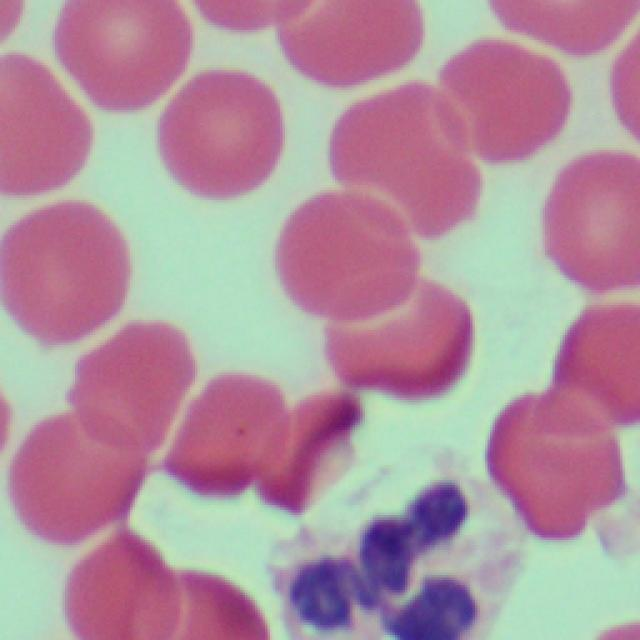RBC: (324, 74, 476, 240), (491, 378, 624, 539), (324, 268, 473, 408), (166, 358, 293, 519), (4, 393, 134, 548), (0, 195, 119, 362), (270, 190, 416, 323), (68, 317, 190, 472), (432, 31, 568, 170), (150, 64, 283, 206), (52, 2, 192, 122), (532, 152, 638, 291), (61, 529, 187, 637), (270, 0, 425, 85), (266, 380, 367, 510), (0, 47, 86, 199), (553, 301, 637, 434), (481, 0, 640, 63)
WBC: (240, 462, 516, 640)
